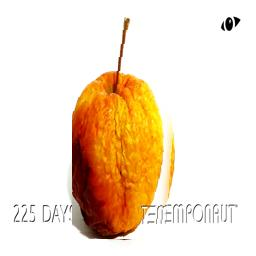Apple Rotten: (73, 9, 183, 239)
